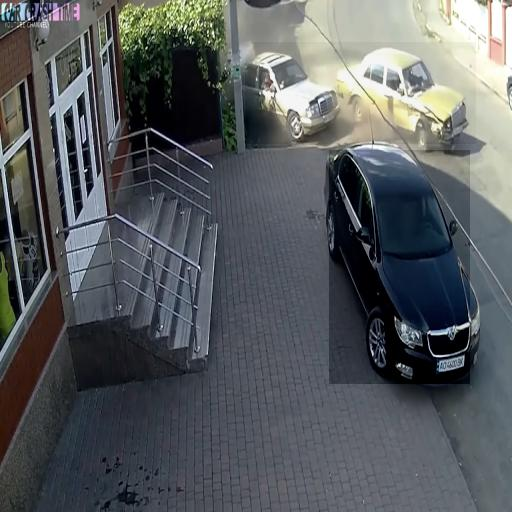小汽车: (329, 150, 470, 384)
小汽车撞小汽车: (245, 42, 476, 144)
